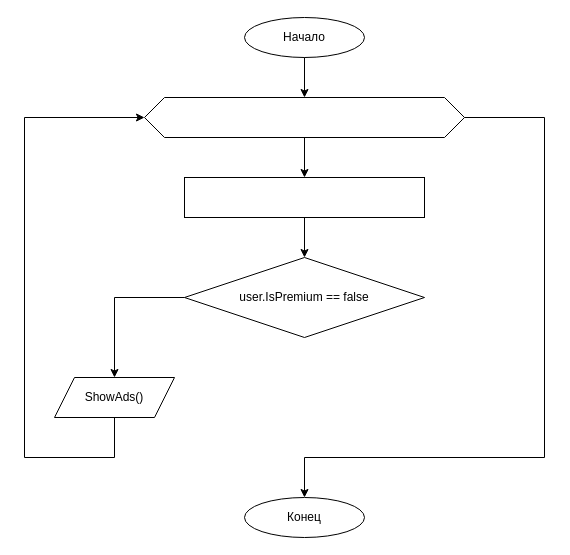
The diagram is 570 pixels wide and 555 high, and some of its shapes have lost their labels. Each missing label, with the centre of its shape:
foreach user in users: (x=304, y=117)
greetings = "Привет " + user.Name + "!": (x=304, y=197)
